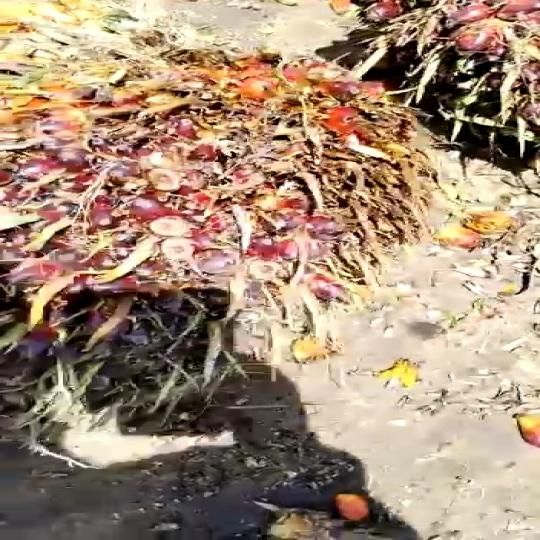masak: (0, 10, 424, 472)
